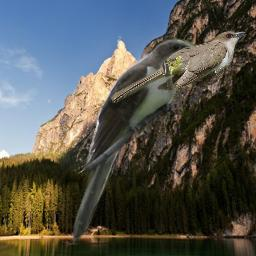Cuckoo: (66, 36, 208, 249), (110, 30, 246, 103)
